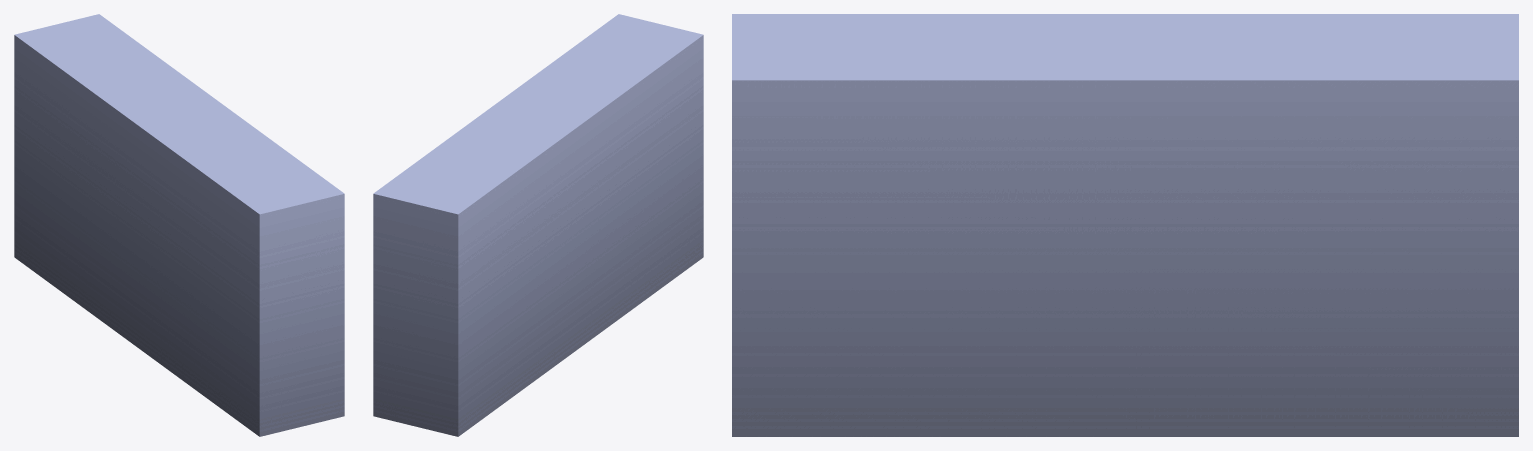
File: wall-low.glb
3 views of the same model, side by side, from view 1: azimuth 30°, elevation 25°; view 2: azimuth 150°, elevation 25°; view 3: azimuth 270°, elevation 25° (orthographic). The views are drawn at different scales.
Parts seen in each view (by area): view 1: wall-low; view 2: wall-low; view 3: wall-low.
Part boxes in pixels (<box>): wall-low: <box>14,14,344,436</box>; wall-low: <box>373,14,703,436</box>; wall-low: <box>732,14,1518,436</box>.
Size of the model in its own units: 0.2 by 0.5 by 1.
1 material, 1 textured.
